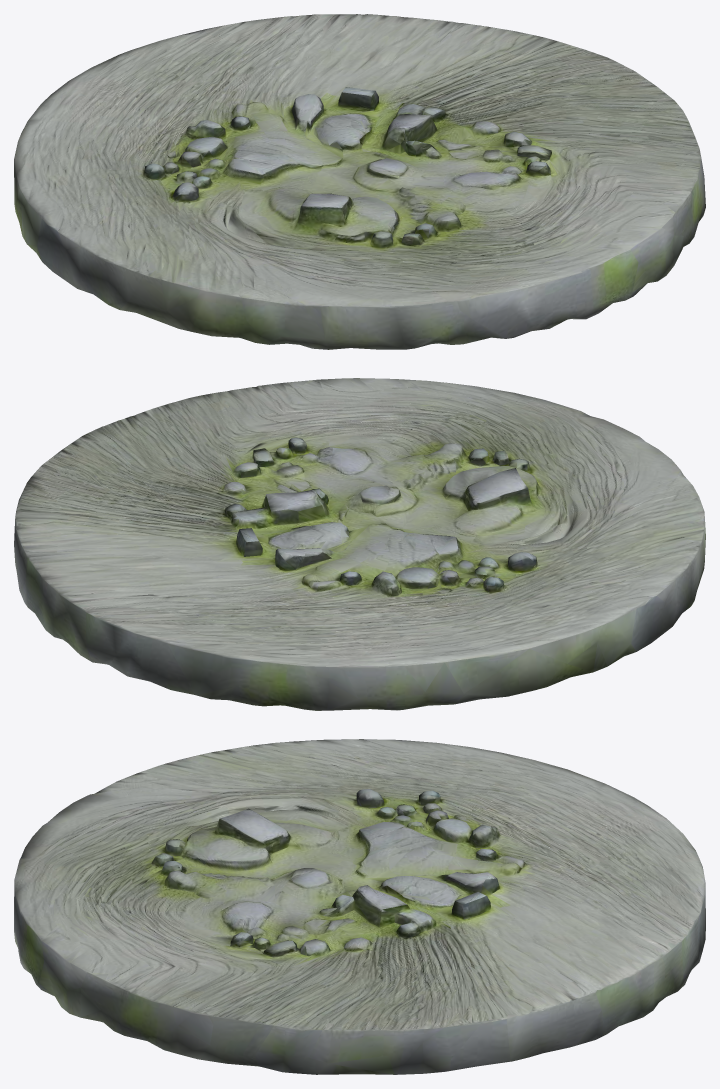
Rendered from fab_prop_8.glb.
The picture shows the model from 3 angles, top to bottom: view 1: azimuth 30°, elevation 25°; view 2: azimuth 150°, elevation 25°; view 3: azimuth 270°, elevation 25°; orthographic projection.
Parts seen in each view (by area): view 1: mesh_8; view 2: mesh_8; view 3: mesh_8.
Boxes of the visible parts, x1,y1,x2,y2 form: mesh_8: [14, 14, 705, 349]; mesh_8: [14, 378, 705, 710]; mesh_8: [14, 739, 705, 1074].
Size of the model in its own units: 1.19 by 0.1491 by 1.19.
Materials: 1 (1 with a texture image).
